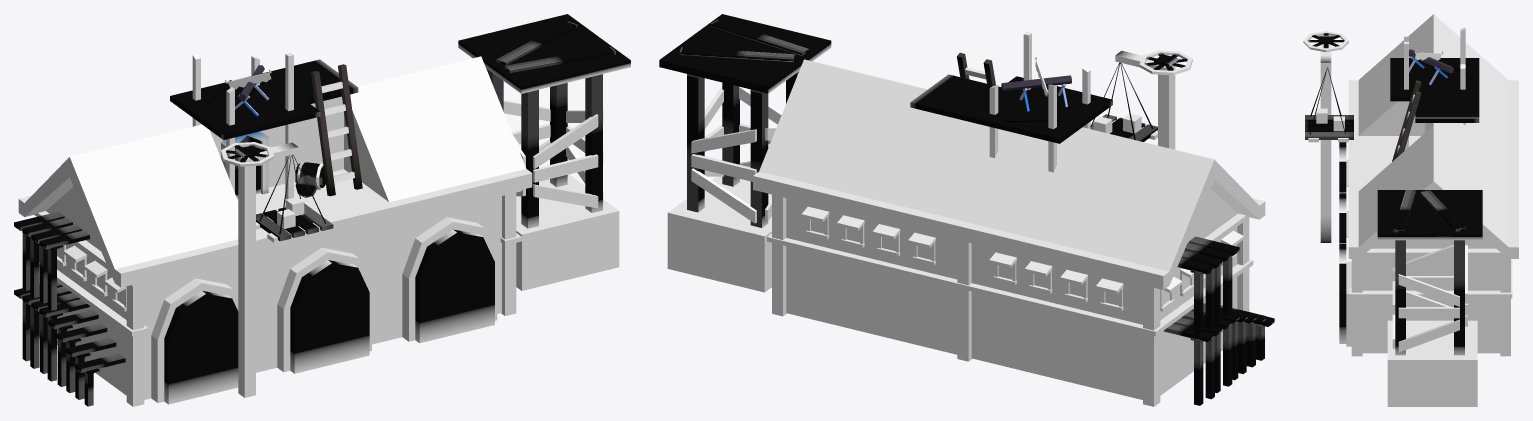
Rendered from FireStationPhase02.fbx.
3 renders of one model, left to right at view 1: azimuth 30°, elevation 25°; view 2: azimuth 150°, elevation 25°; view 3: azimuth 270°, elevation 25°, orthographic. The views are drawn at different scales.
Parts seen in each view (by area): view 1: FireStationPhase02; view 2: FireStationPhase02; view 3: FireStationPhase02.
Boxes of the visible parts, x1=… form: FireStationPhase02: x1=14, y1=14, x2=630, y2=406; FireStationPhase02: x1=659, y1=14, x2=1274, y2=406; FireStationPhase02: x1=1303, y1=14, x2=1518, y2=406.
Size of the model in its own units: 703 by 347 by 286.
